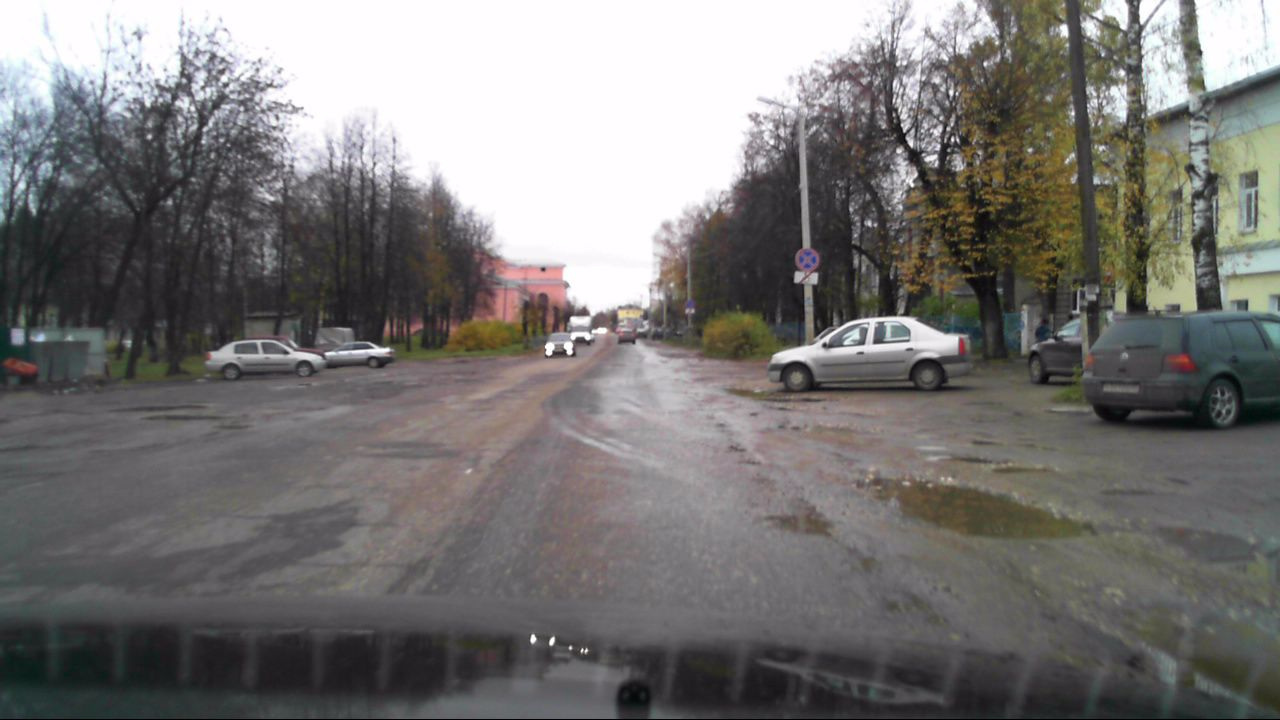No Parking: (795, 248, 819, 270)
